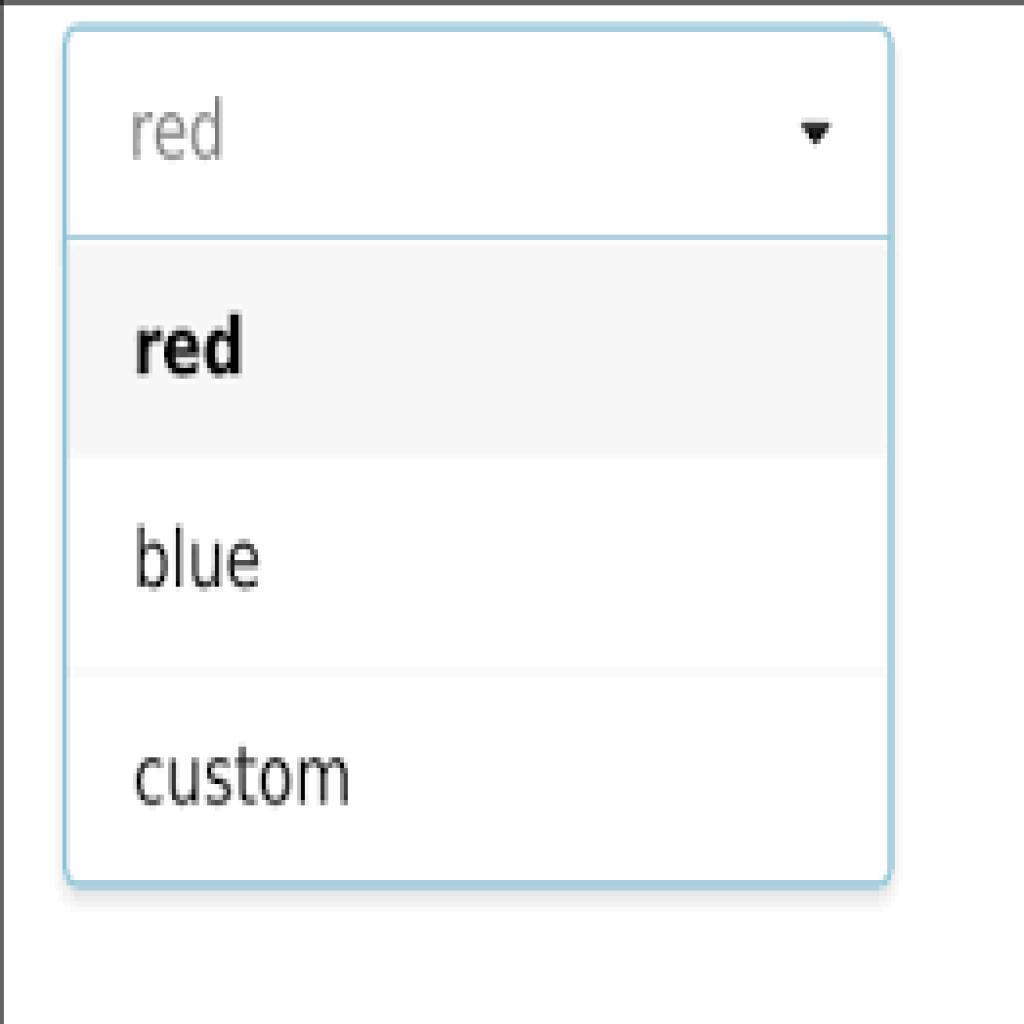dropdown: (67, 29, 893, 238)
label: (131, 741, 365, 820), (127, 511, 274, 609), (127, 305, 262, 392)
